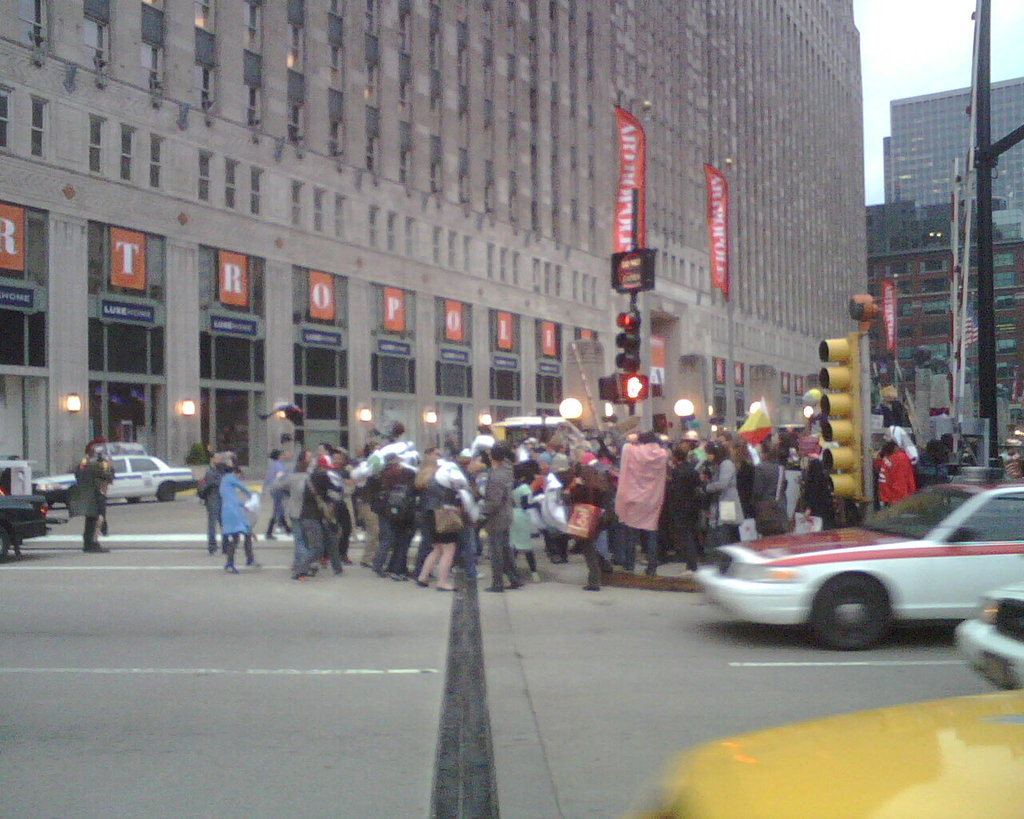Car: (627, 691, 1023, 818), (692, 499, 995, 649), (34, 451, 200, 503), (952, 579, 1023, 689), (0, 495, 53, 556)
